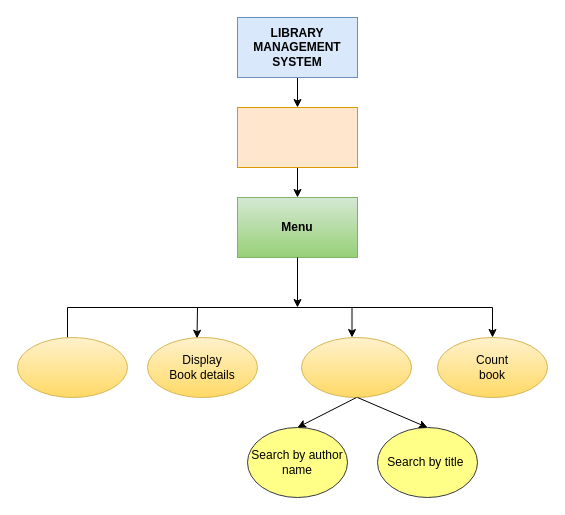
The diagram is 565 pixels wide and 515 high, and some of its shapes have lost their labels. Each missing label, with the centre of its shape:
Add Book: point 72,367
LOGIN to System: point 297,137
Search: point 356,367
